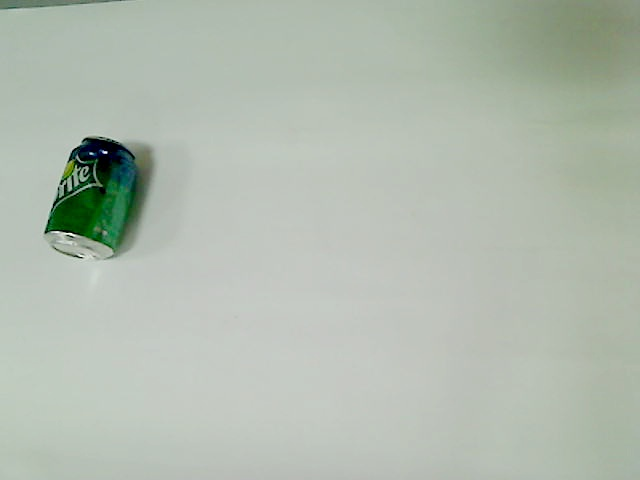can: (42, 135, 141, 262)
